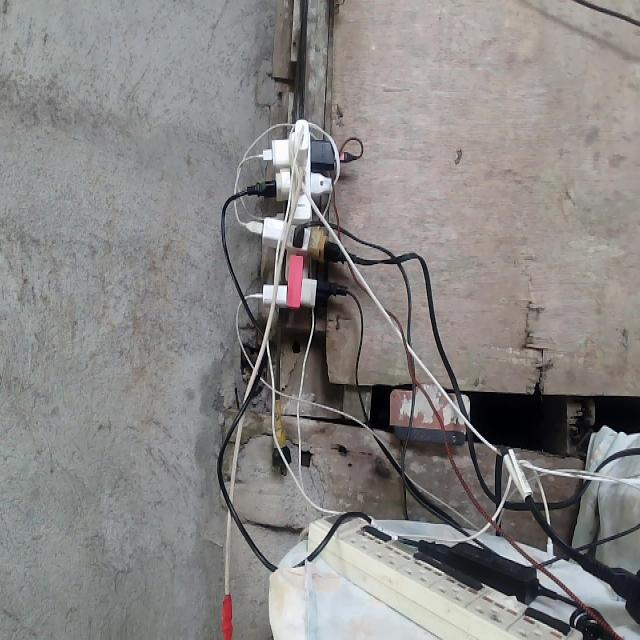-: (233, 115, 355, 306)
